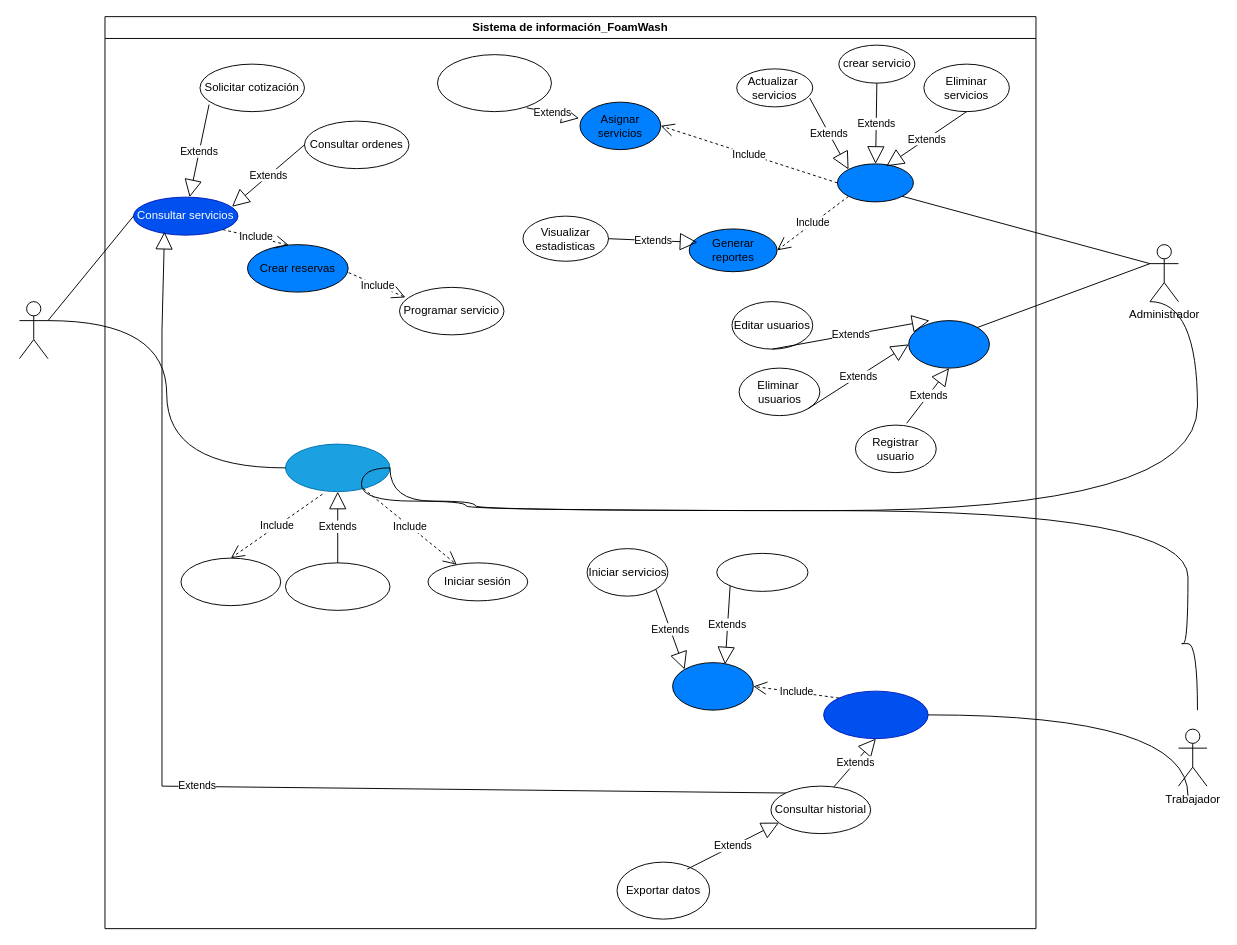
The diagram is 1237 pixels wide and 945 high, and some of its shapes have lost their labels. Here are the shapes that lost their labels. From the top down, the box of each, then its label:
(437, 54, 551, 112): Validar disponibilidad del empleado
(836, 163, 913, 202): Gestionar servicios
(19, 301, 48, 359): Cliente
(908, 320, 989, 368): Gestionar usuarios
(285, 443, 390, 492): Ingresar al sistema
(180, 557, 281, 606): Registrarse
(285, 562, 390, 610): Recuperar contraseña
(716, 552, 808, 591): Finalizar servicios
(672, 662, 753, 710): Marcar servicios
(823, 690, 928, 739): Visualizar agenda
